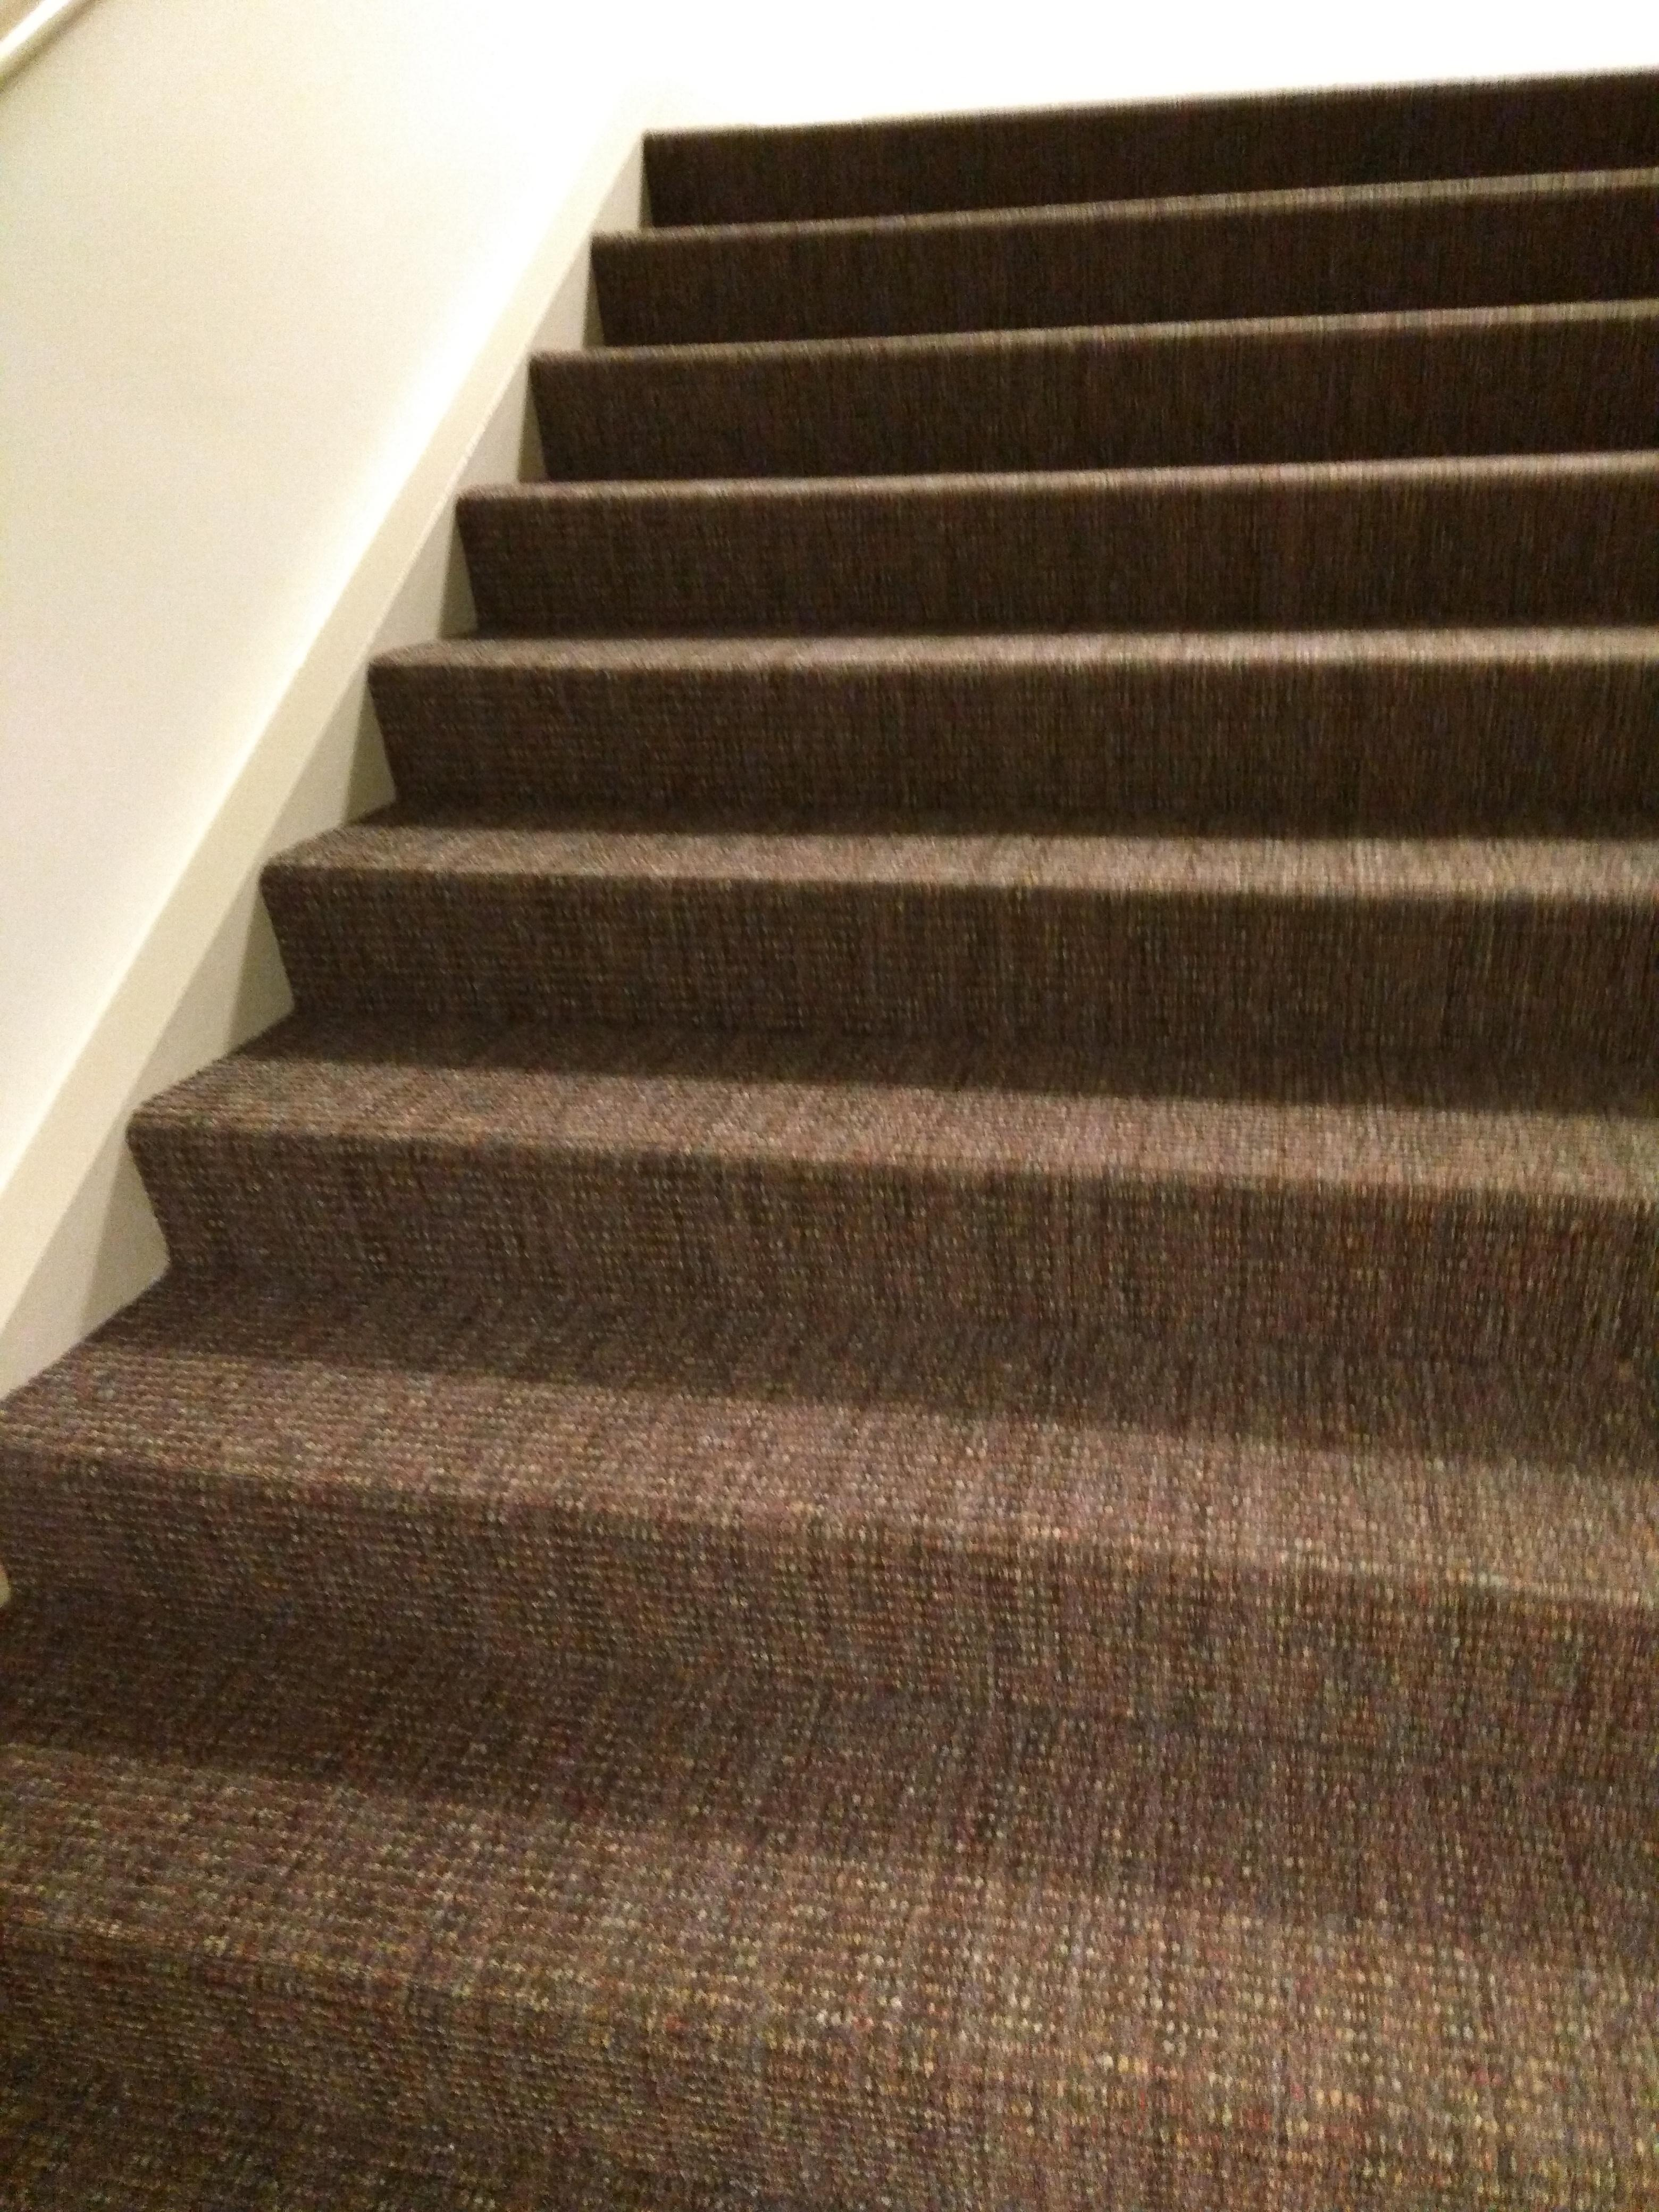stairs_up: (59, 98, 1654, 2182)
